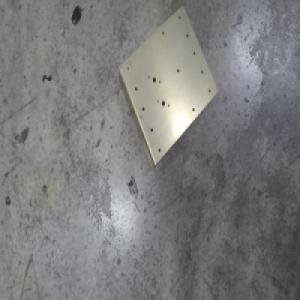MetalSheet: (117, 4, 218, 169)
